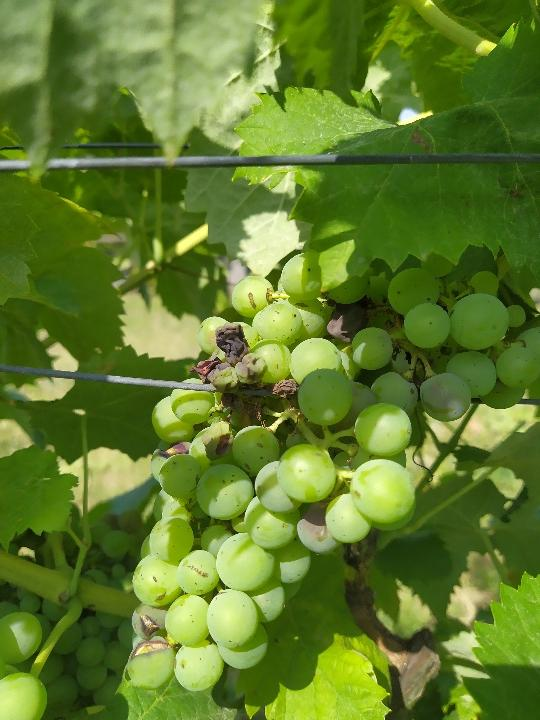grape: (123, 254, 536, 694)
